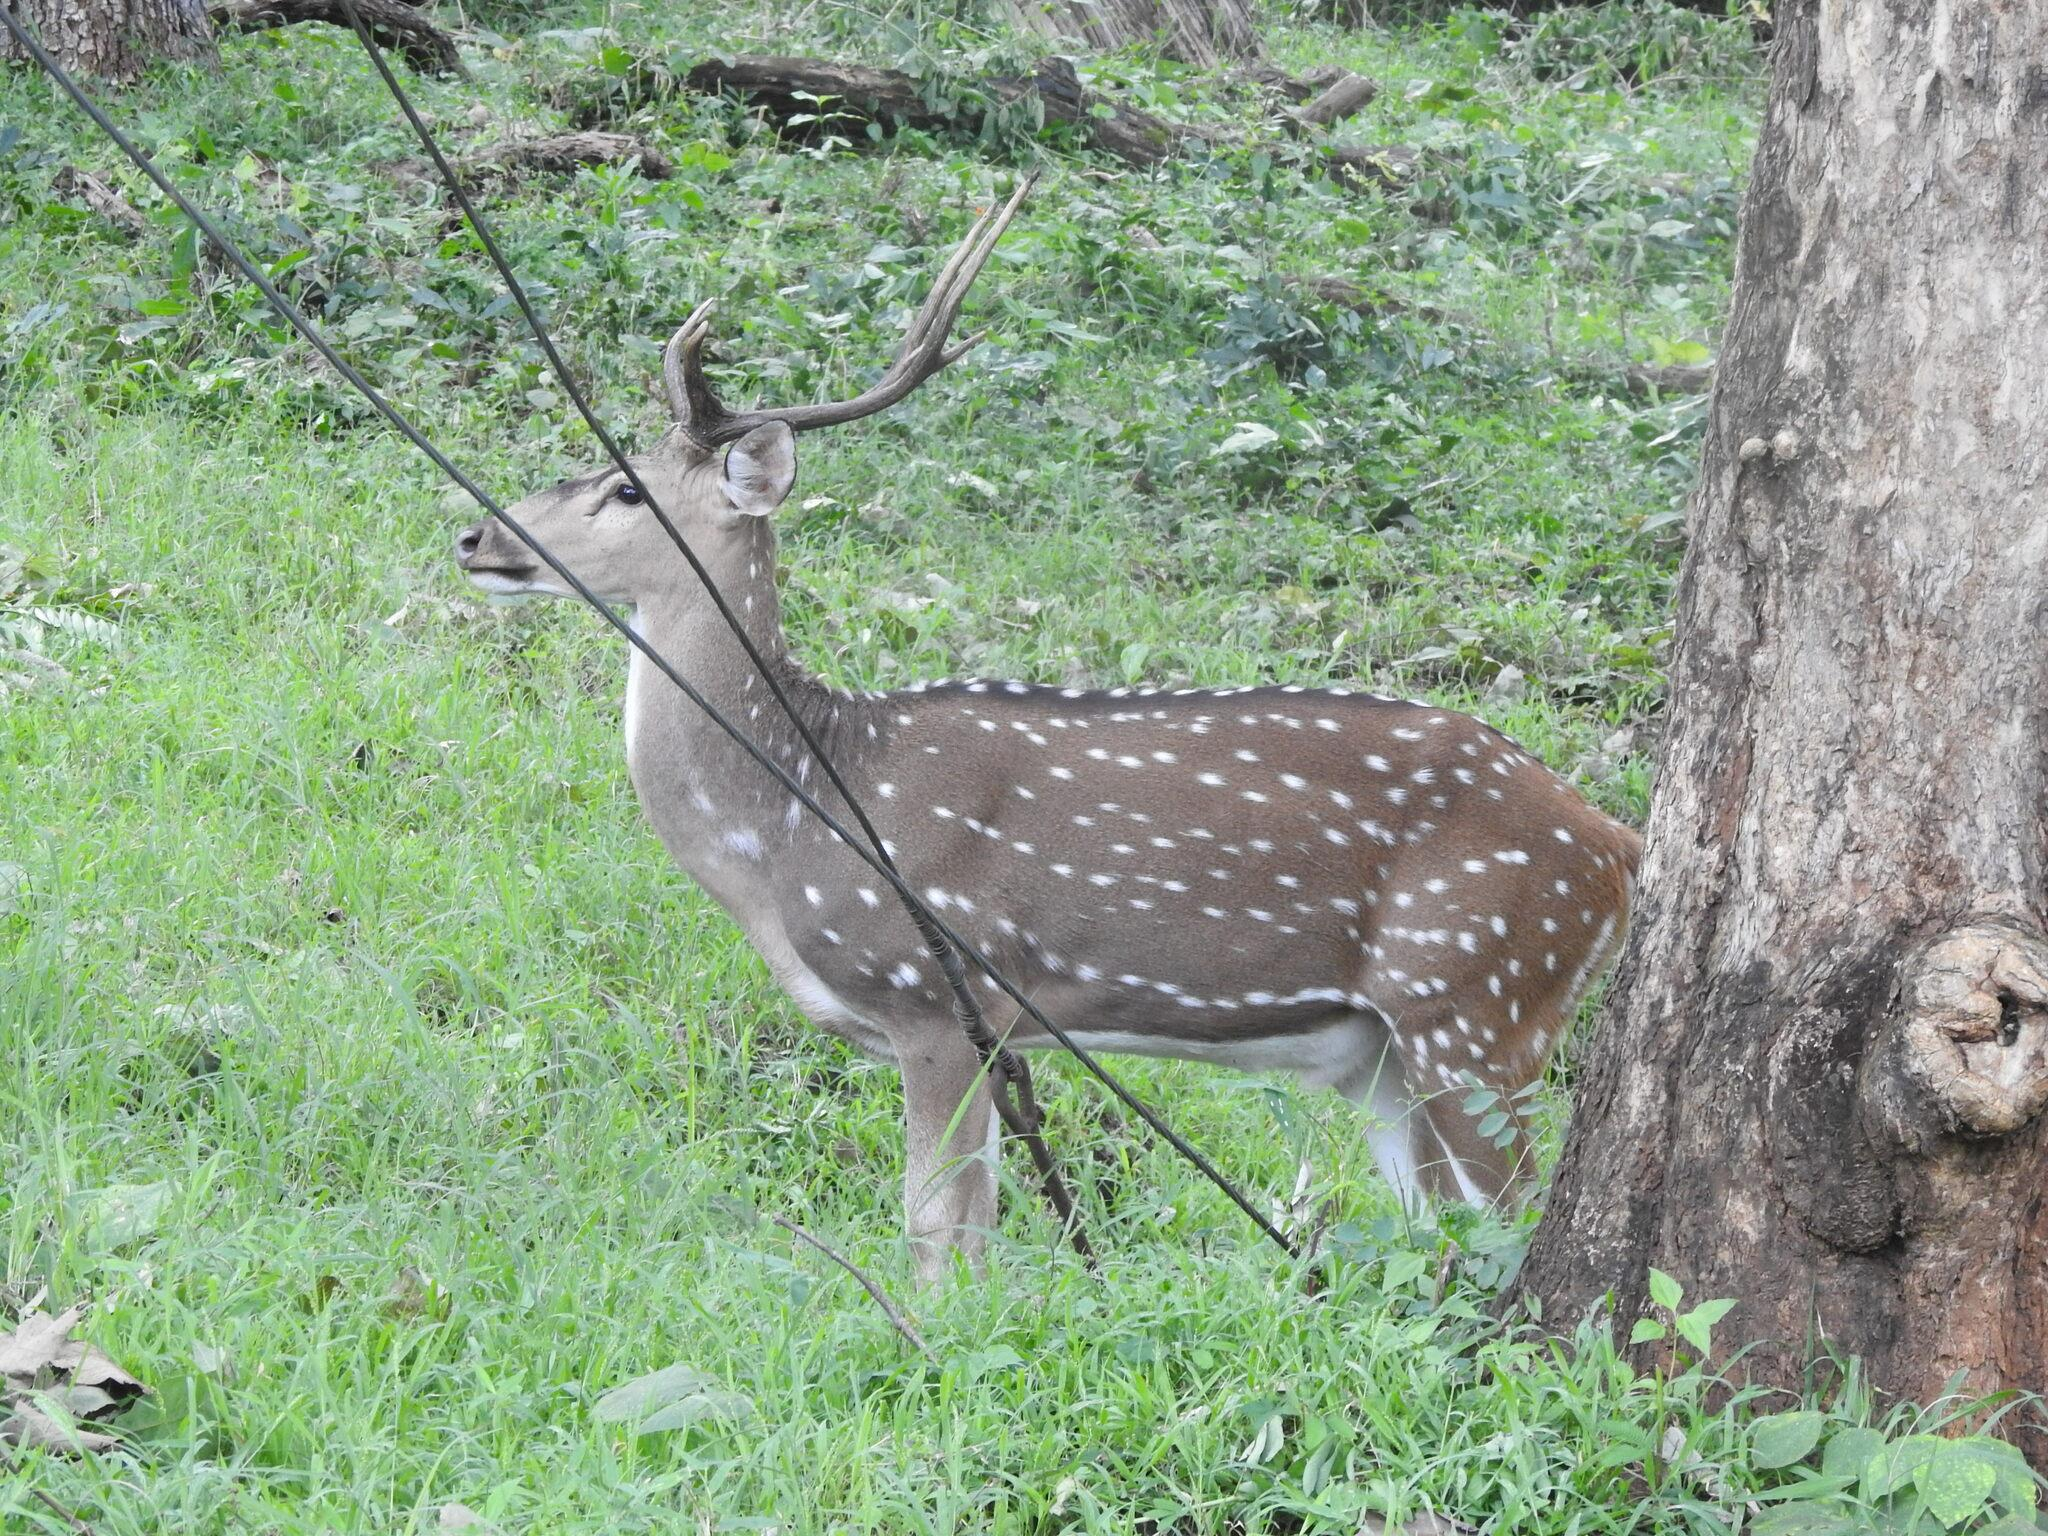Deer: (455, 174, 1638, 1275)
